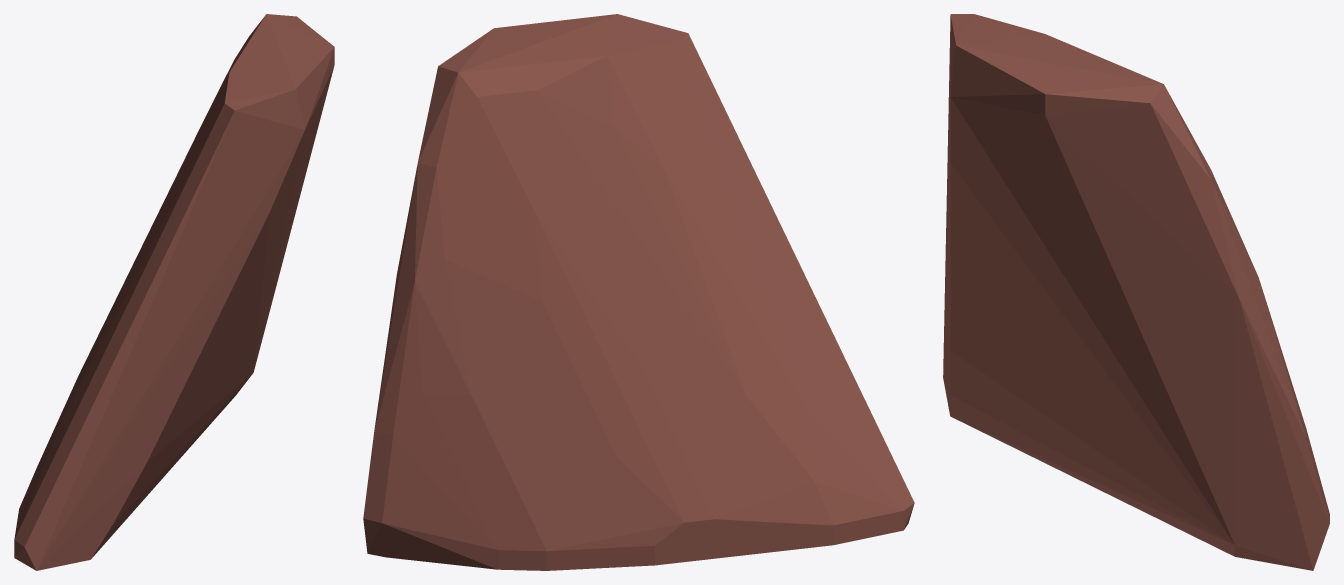
File: mouth_cup035.obj
3 renders of one model, left to right at view 1: azimuth 30°, elevation 25°; view 2: azimuth 150°, elevation 25°; view 3: azimuth 270°, elevation 25°, orthographic. The views are drawn at different scales.
Parts seen in each view (by area): view 1: mouth_cup035; view 2: mouth_cup035; view 3: mouth_cup035.
Boxes of the visible parts, x1,y1,x2,y2 form: mouth_cup035: [14, 14, 334, 570]; mouth_cup035: [363, 14, 914, 570]; mouth_cup035: [943, 14, 1329, 570].
Size of the model in its own units: 0.1224 by 0.1365 by 0.0977.
